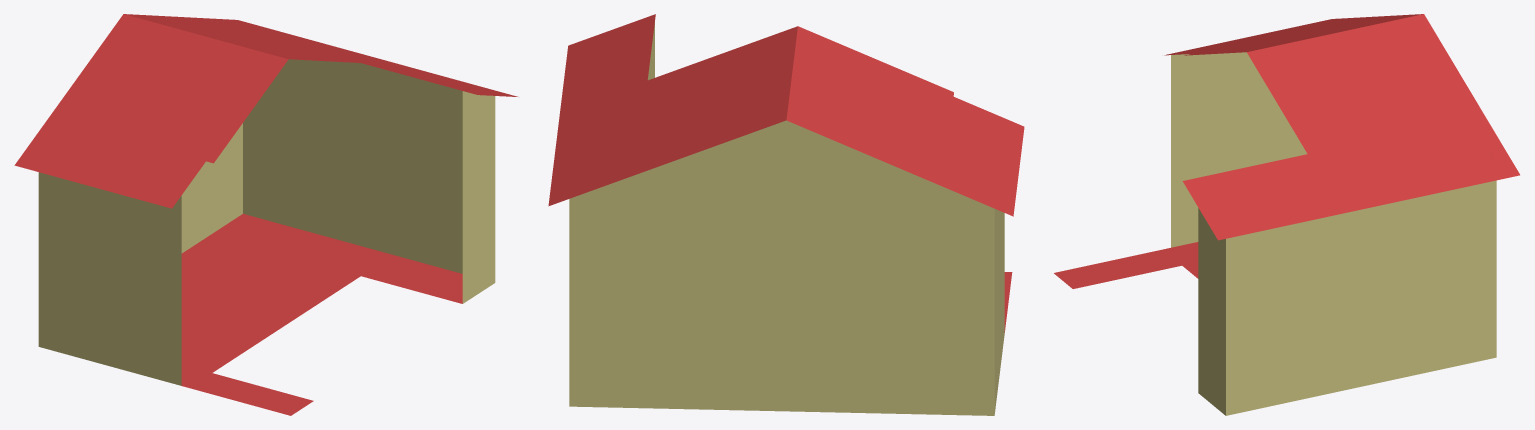
3 renders of one model, left to right at view 1: azimuth 30°, elevation 25°; view 2: azimuth 150°, elevation 25°; view 3: azimuth 270°, elevation 25°, orthographic. The views are drawn at different scales.
Size of the model in its own units: 14.77 by 13.17 by 8.3.
